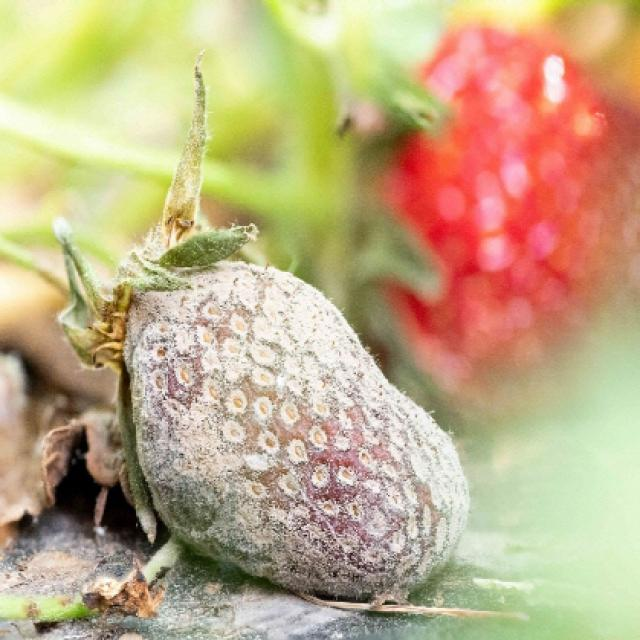Gray Mold: (52, 61, 472, 604)
